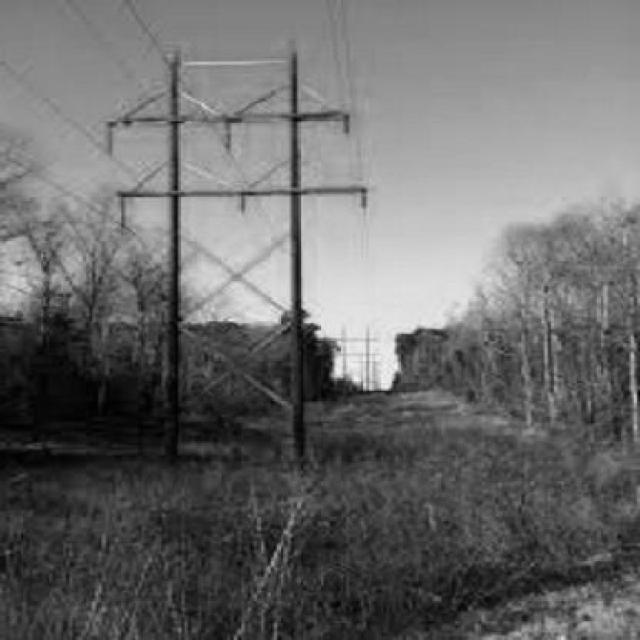Pole: (106, 48, 369, 466)
